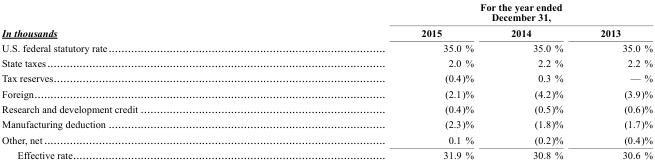table: (1, 0, 652, 160)
table column: (1, 0, 278, 160), (278, 0, 491, 160), (491, 0, 581, 160), (581, 0, 652, 160)
table column header: (1, 0, 652, 39)
table row: (1, 0, 652, 24), (1, 54, 652, 70), (1, 100, 652, 116), (1, 24, 652, 39), (1, 39, 652, 54), (1, 70, 652, 85), (1, 85, 652, 100), (1, 116, 652, 131), (1, 131, 652, 146), (1, 146, 652, 160)
table spanning cell: (1, 0, 278, 39), (278, 0, 652, 24)
